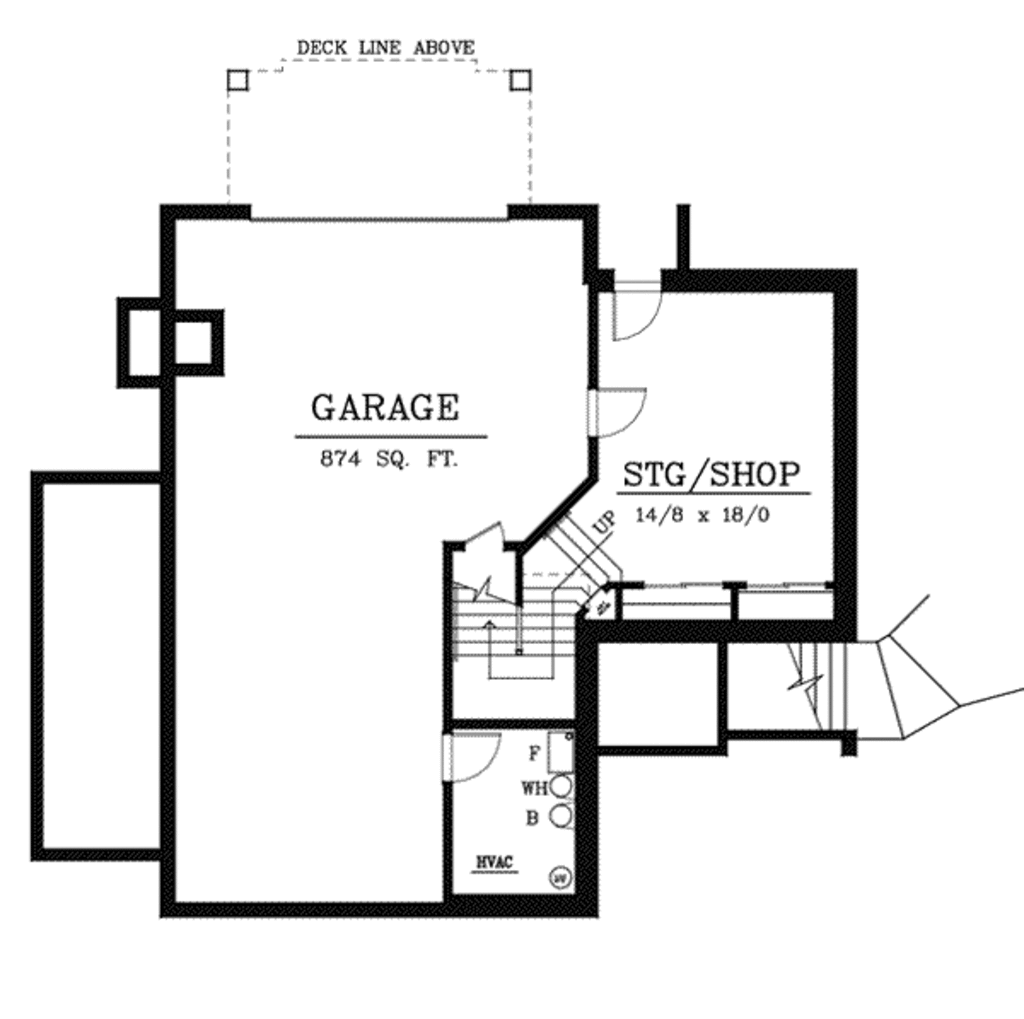door: (431, 726, 505, 786), (606, 272, 664, 342), (589, 390, 655, 442), (467, 509, 513, 555)
stairs: (758, 597, 1019, 740), (453, 503, 642, 698)
